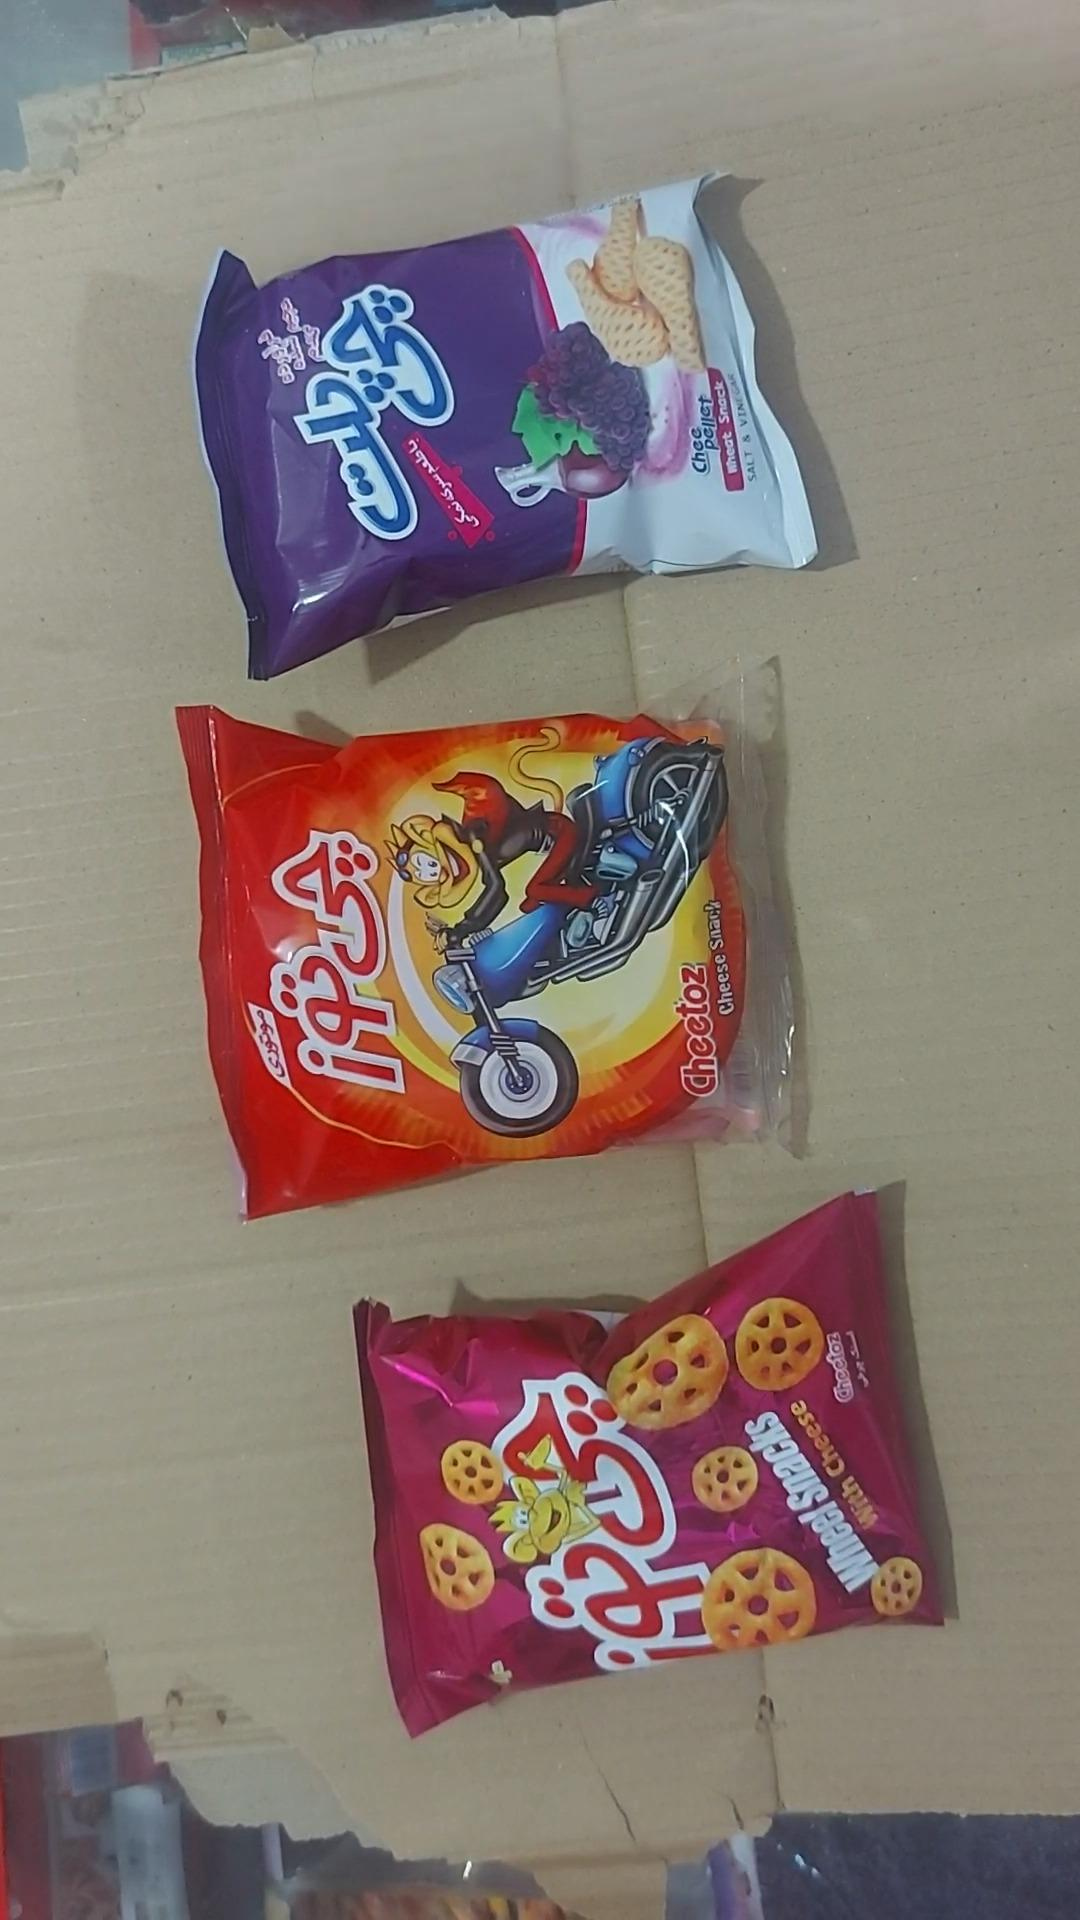Chee pellet vinegar: (193, 169, 820, 683)
Cheetoz snack 30g: (171, 657, 808, 1224)
Cheetoz wheelsnack: (352, 1193, 943, 1742)
